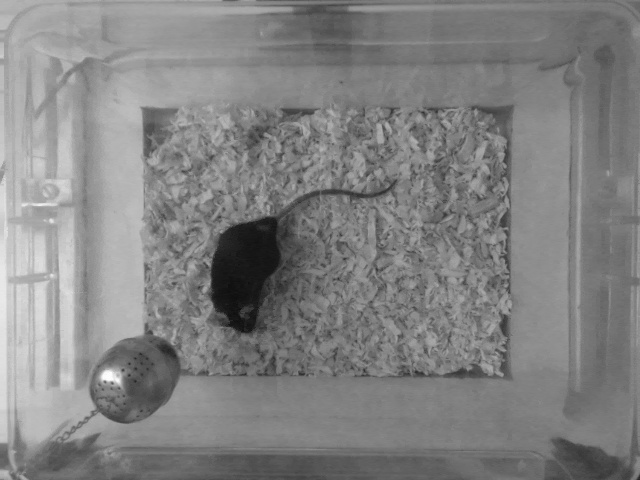mice: (209, 178, 398, 337)
